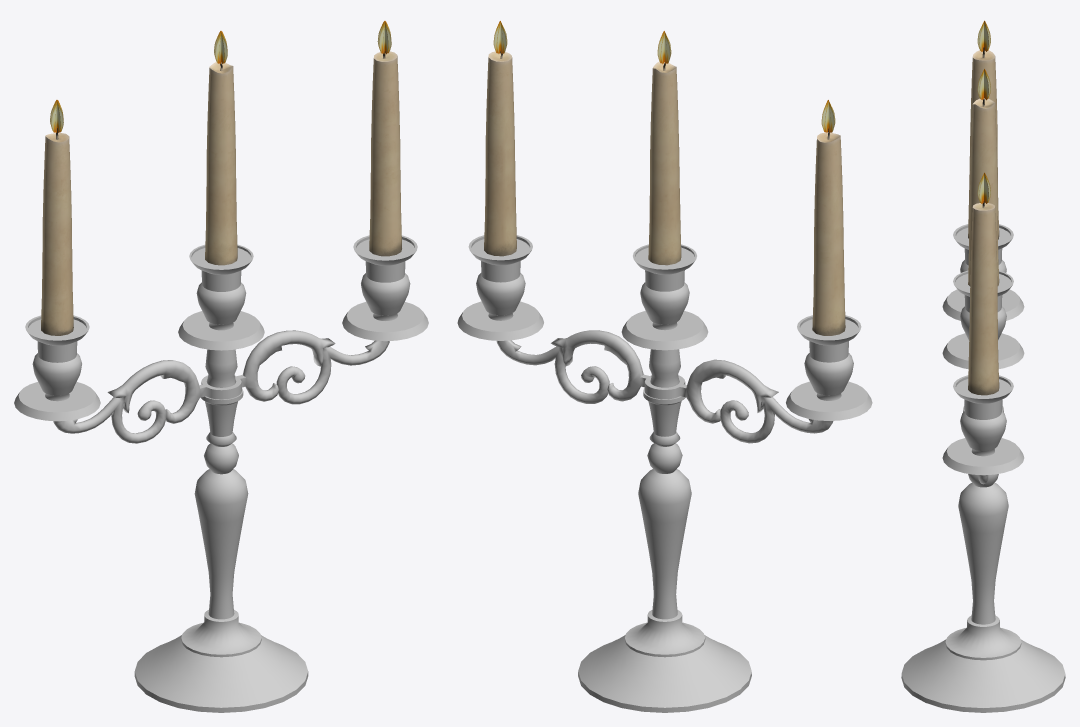
The model's file is brass_candleholder_b.fbx.
3 views of the same model, side by side, from view 1: azimuth 30°, elevation 25°; view 2: azimuth 150°, elevation 25°; view 3: azimuth 270°, elevation 25° (orthographic). The views are drawn at different scales.
Parts seen in each view (by area): view 1: brass_candleholder_02_LOD0; view 2: brass_candleholder_02_LOD0; view 3: brass_candleholder_02_LOD0.
Boxes of the visible parts, x1,y1,x2,y2 form: brass_candleholder_02_LOD0: [14, 21, 428, 712]; brass_candleholder_02_LOD0: [457, 21, 872, 712]; brass_candleholder_02_LOD0: [901, 20, 1065, 712].
Size of what is drawn, in the model's own units: 26.11 by 40.09 by 9.74.
